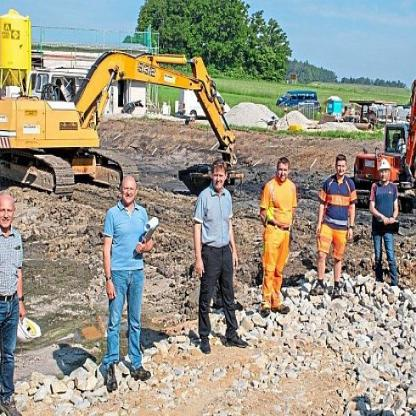excavator: (1, 42, 250, 201)
person: (94, 139, 152, 387), (195, 137, 237, 354), (256, 145, 296, 331), (313, 137, 355, 306), (367, 148, 402, 294), (0, 193, 22, 405)
